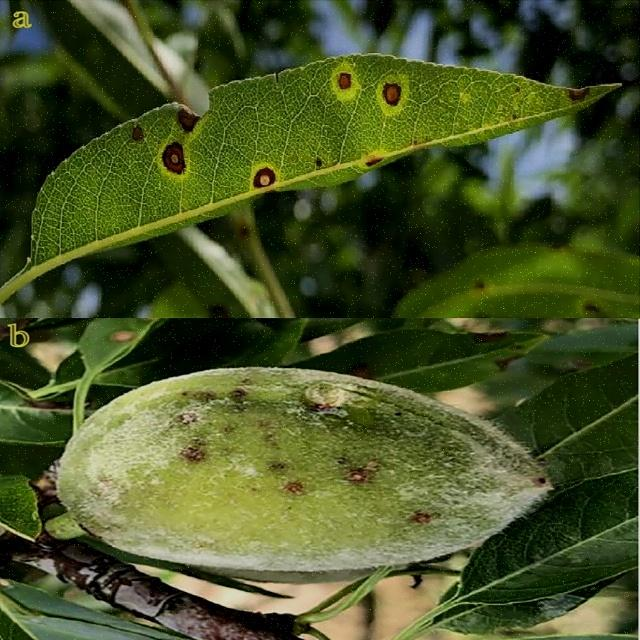leaf_spot: (14, 42, 630, 292), (34, 349, 567, 579)
